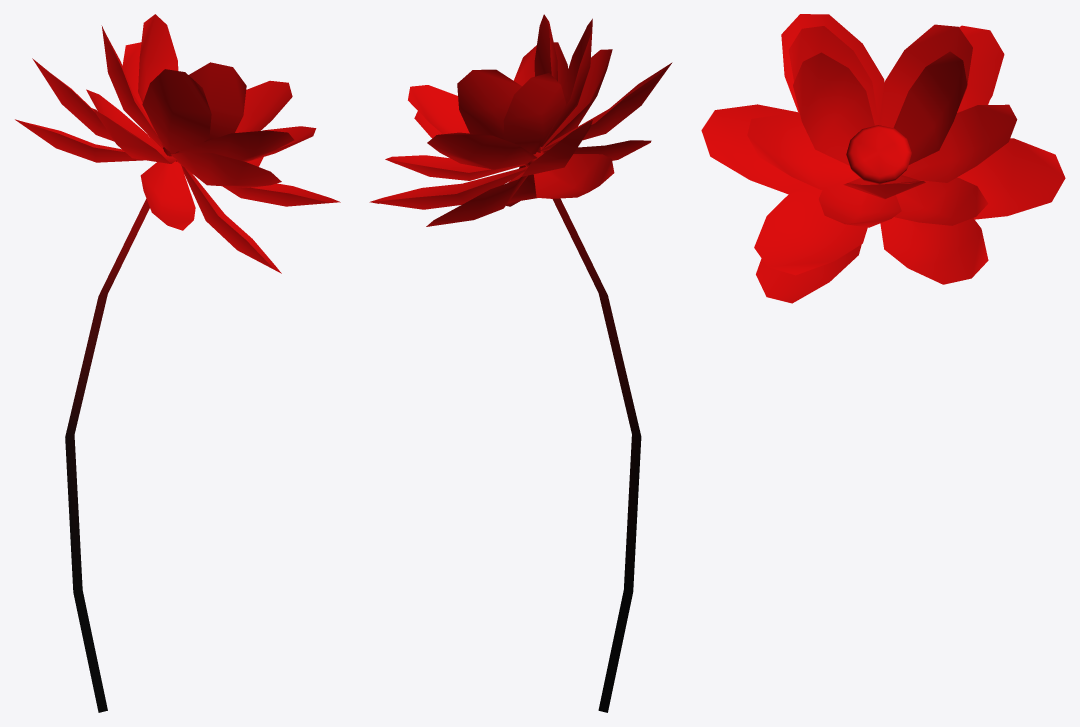
Rendered from SM_Lotus_01_LOD0.fbx.
3 views of the same model, side by side, from view 1: azimuth 30°, elevation 25°; view 2: azimuth 150°, elevation 25°; view 3: azimuth 270°, elevation 25° (orthographic). The views are drawn at different scales.
Visible parts, largest first — view 1: Lotus_01_LOD0; view 2: Lotus_01_LOD0; view 3: Lotus_01_LOD0.
Boxes of the visible parts, x1=… form: Lotus_01_LOD0: x1=15, y1=14, x2=340, y2=712; Lotus_01_LOD0: x1=369, y1=14, x2=672, y2=712; Lotus_01_LOD0: x1=701, y1=14, x2=1065, y2=303.
Size of the model in its own units: 81.76 by 211 by 98.48.
